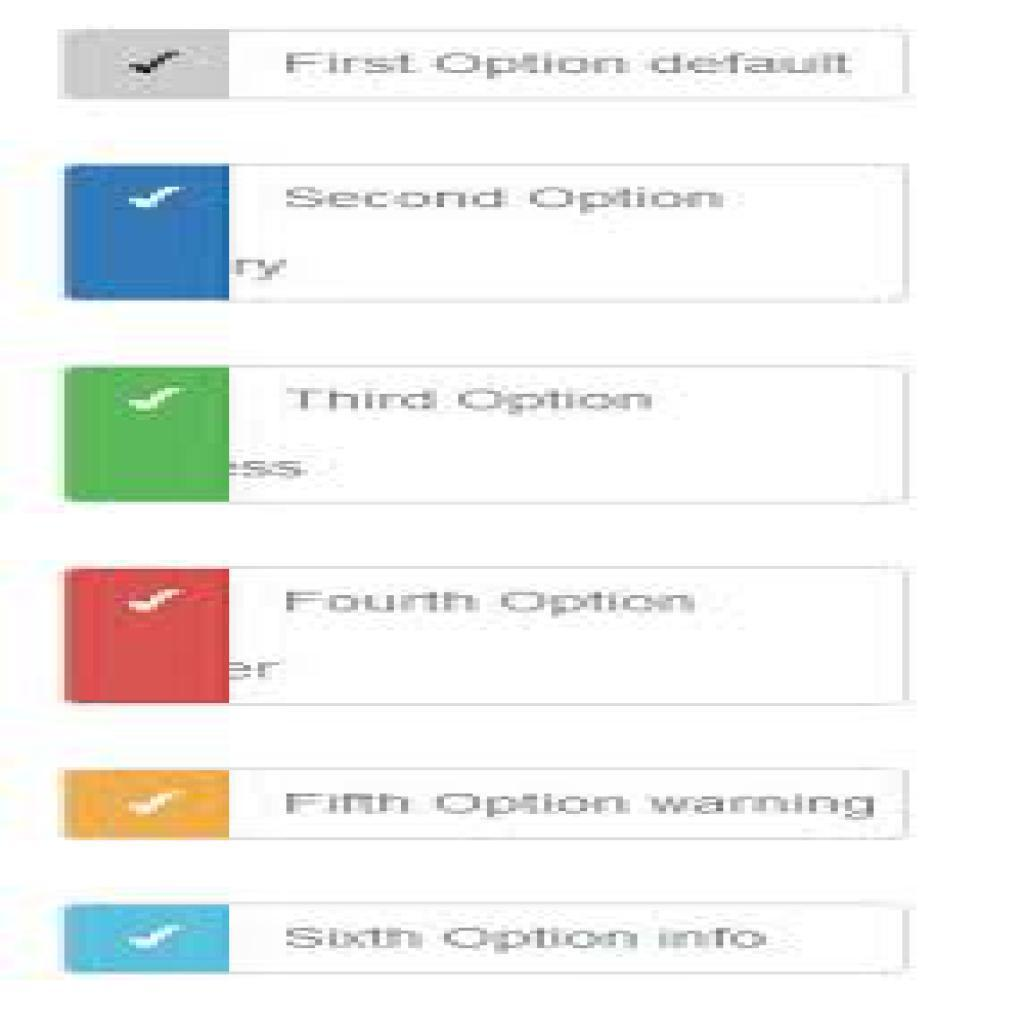checkbox: (67, 568, 230, 704), (63, 369, 229, 502), (67, 165, 228, 300), (64, 903, 229, 977), (62, 769, 231, 840), (63, 29, 229, 101)
label: (280, 786, 886, 827), (280, 43, 858, 79), (281, 919, 769, 955), (284, 179, 733, 217), (274, 580, 700, 619), (280, 383, 655, 420)
